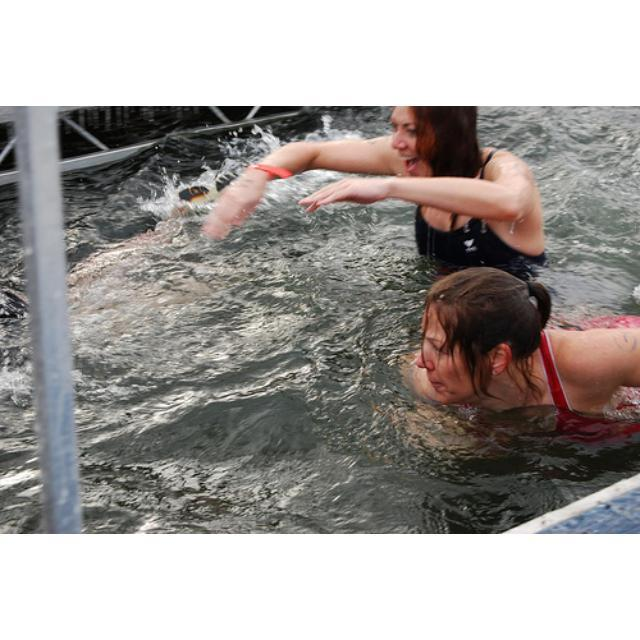human: (208, 108, 554, 266), (407, 258, 639, 442)
